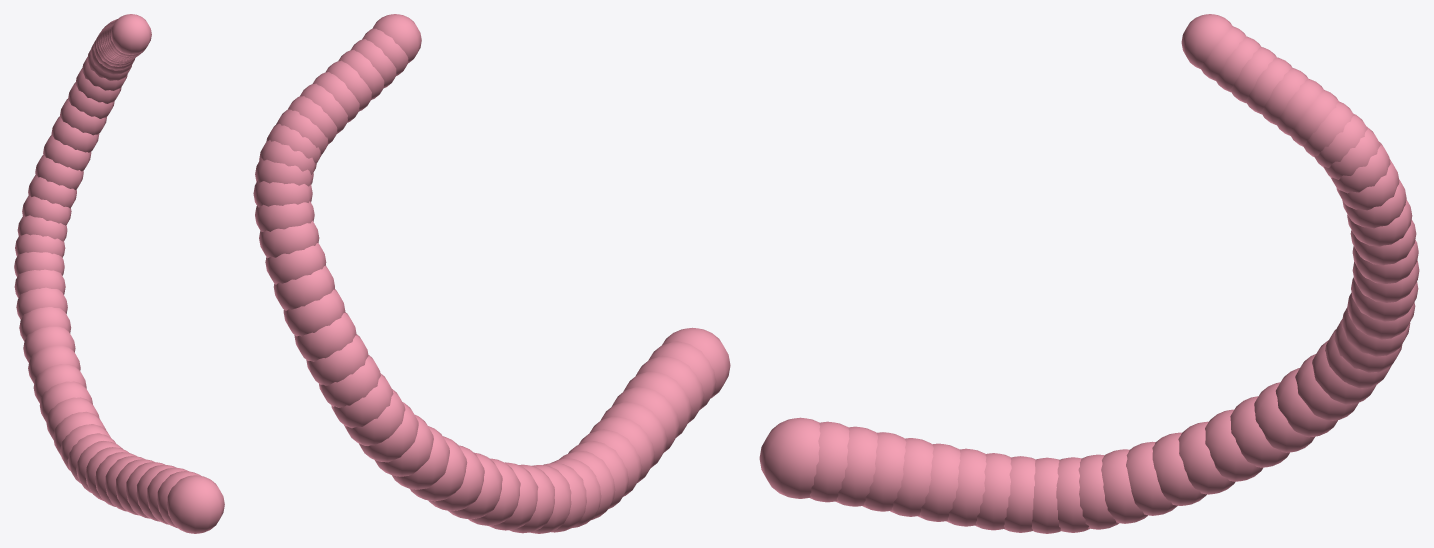
File: tail_mouse.glb
3 renders of one model, left to right at view 1: azimuth 30°, elevation 25°; view 2: azimuth 150°, elevation 25°; view 3: azimuth 270°, elevation 25°, orthographic. The views are drawn at different scales.
Bounding box in the file's own units: 0.3519 × 0.8482 × 0.886.
